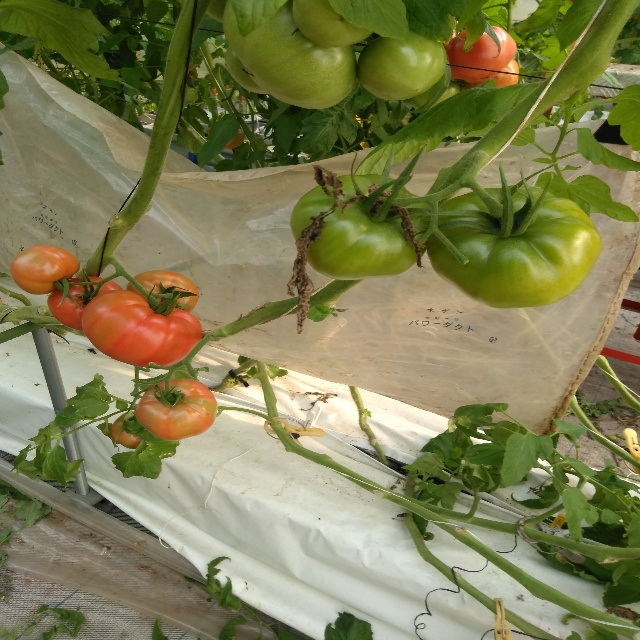b_fully_ripened: (47, 276, 124, 331)
b_green: (428, 185, 602, 309), (289, 174, 436, 280), (224, 0, 357, 109), (356, 27, 446, 101), (293, 0, 373, 48), (225, 45, 270, 95), (415, 73, 462, 111)
b_half_ripened: (81, 290, 202, 369), (135, 378, 218, 441), (441, 26, 518, 84), (10, 245, 81, 295), (126, 269, 200, 314), (110, 411, 157, 449), (459, 59, 518, 89)
